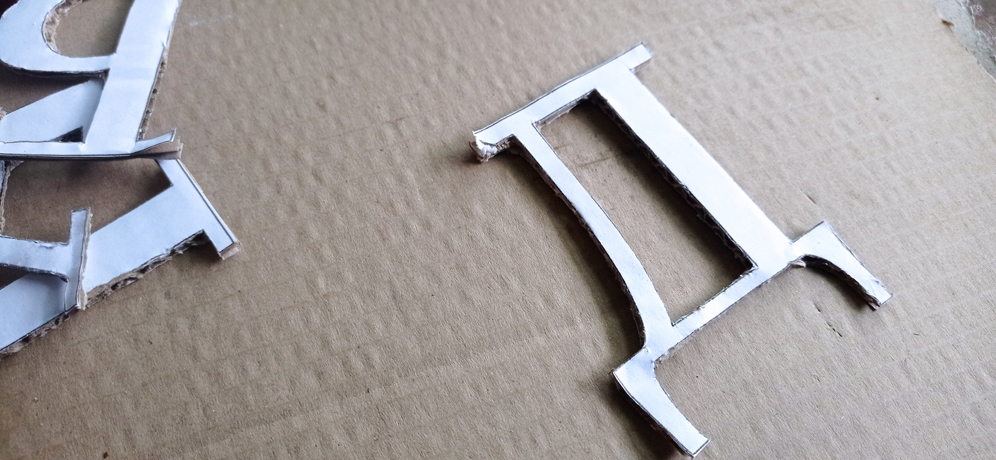d: (470, 41, 893, 459)
